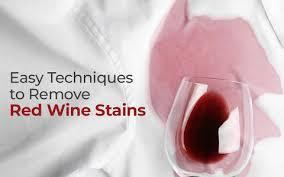oil: (148, 6, 279, 112), (251, 99, 275, 147)
